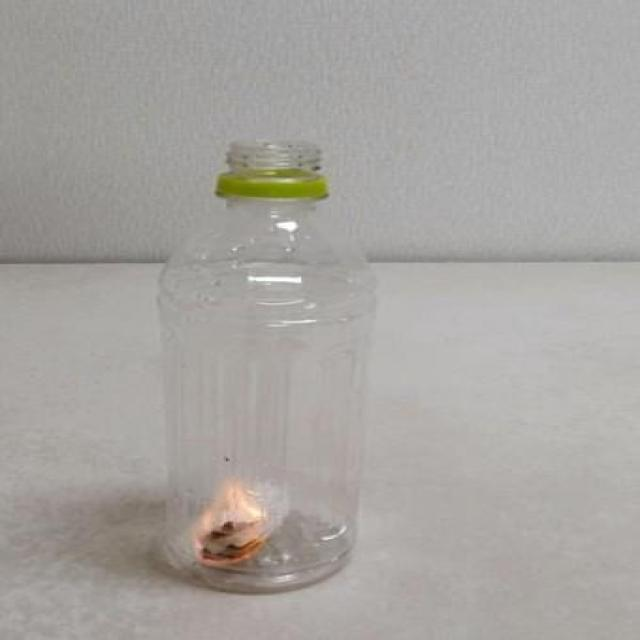bottle: (157, 142, 353, 594)
